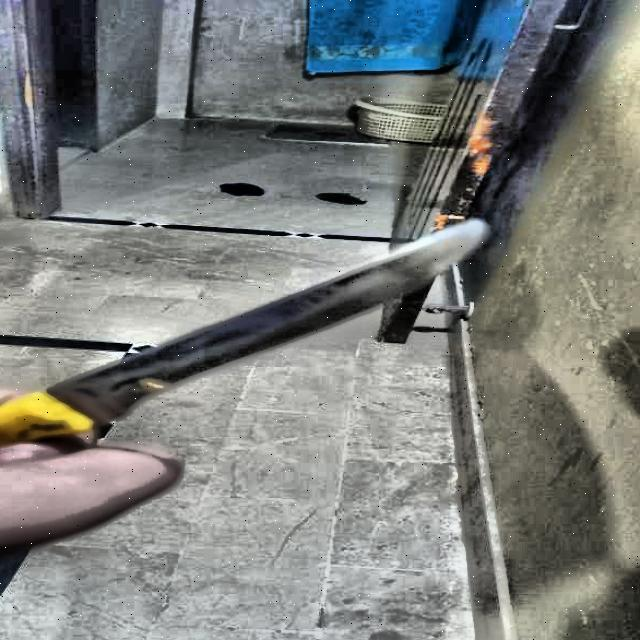knife: (0, 218, 485, 456)
